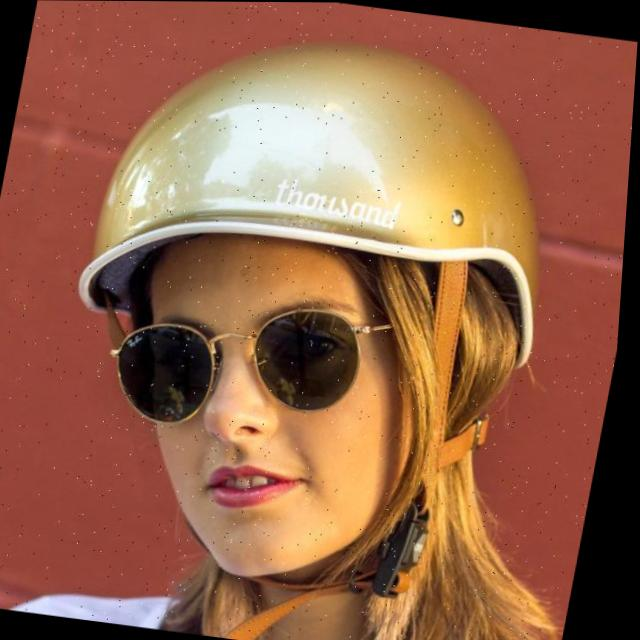helmet: (33, 15, 581, 617)
